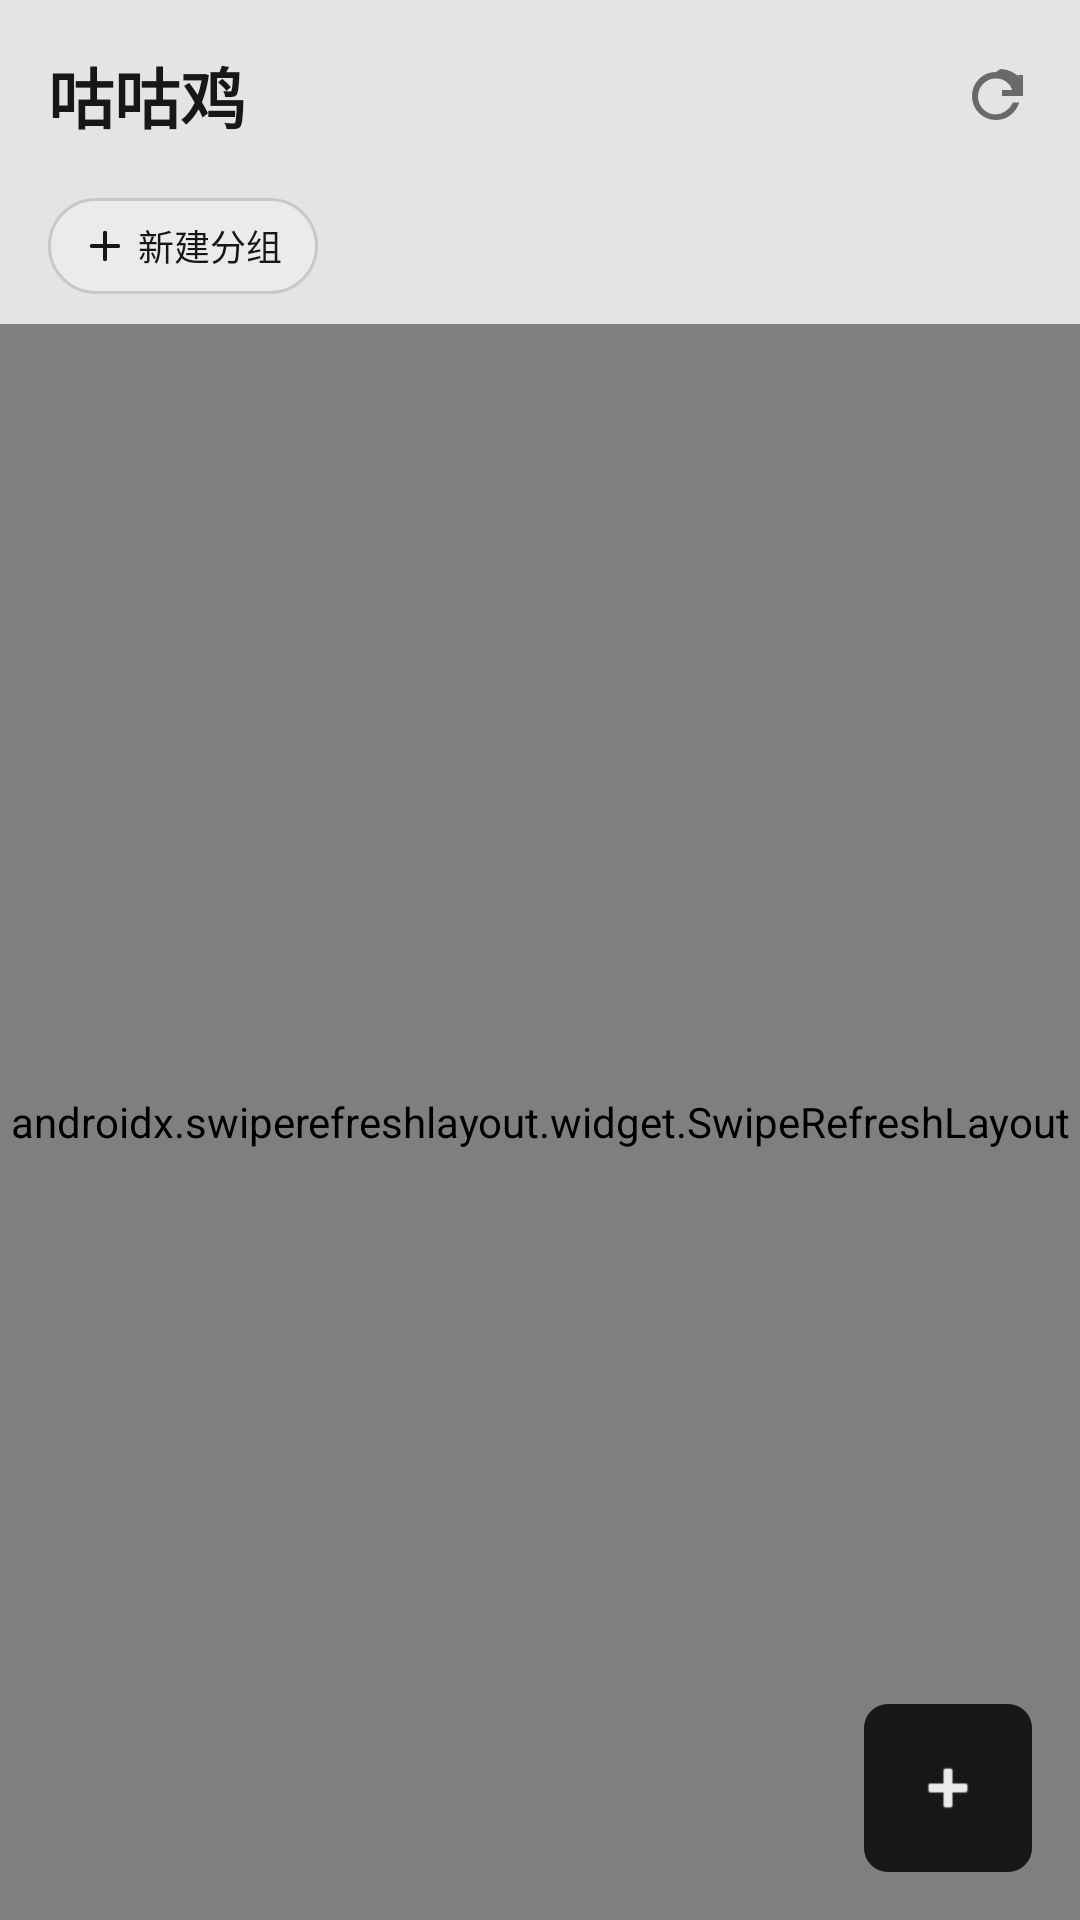

Icons on this 1080x1920 Android screen, each with the point to tap as (x,y):
add: (948,1788)
刷新: (997,94)
